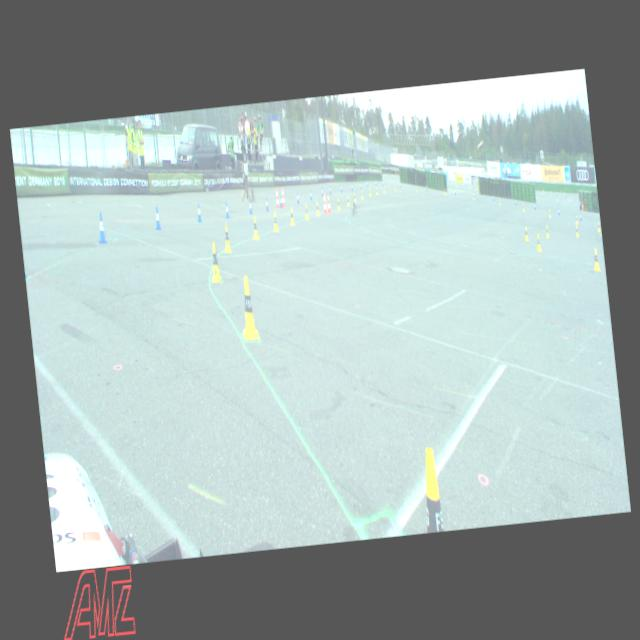blue_cone: (95, 212, 106, 244), (154, 206, 162, 228), (196, 202, 202, 222), (224, 202, 229, 218), (248, 198, 252, 214), (264, 197, 268, 210), (278, 195, 282, 208), (308, 190, 312, 200), (578, 212, 582, 220), (556, 208, 560, 215), (328, 186, 331, 194), (296, 192, 298, 203), (321, 187, 323, 196), (340, 184, 342, 191), (350, 183, 352, 190), (534, 203, 536, 209)
large_orange_cone: (321, 192, 327, 212), (325, 192, 331, 212), (274, 188, 279, 208), (280, 186, 285, 206)
yellow_cone: (418, 447, 444, 532), (237, 274, 259, 340), (208, 240, 222, 282), (222, 222, 232, 253), (592, 248, 600, 272), (251, 216, 259, 239), (272, 210, 278, 230), (288, 206, 294, 225), (535, 234, 541, 252), (315, 200, 320, 216), (304, 203, 308, 219), (524, 227, 528, 240), (545, 225, 549, 238), (574, 225, 578, 236), (574, 214, 578, 223), (336, 198, 339, 210), (597, 222, 600, 232), (346, 196, 349, 206), (325, 198, 327, 212), (368, 187, 371, 196), (360, 190, 363, 198), (375, 187, 378, 194), (354, 192, 356, 202), (548, 209, 550, 217), (394, 184, 396, 191), (382, 185, 384, 192)
